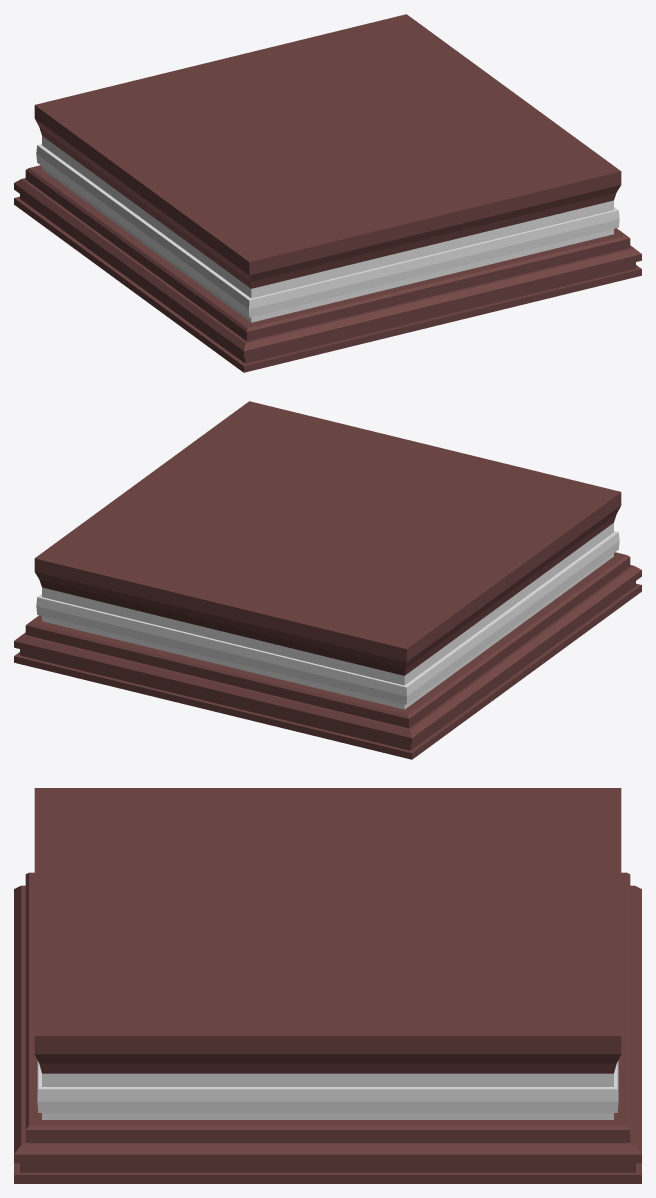
3 renders of one model, top to bottom at view 1: azimuth 30°, elevation 25°; view 2: azimuth 150°, elevation 25°; view 3: azimuth 270°, elevation 25°, orthographic. The views are drawn at different scales.
Visible parts, largest first — view 1: floor9.0, floor9.0Decor; view 2: floor9.0, floor9.0Decor; view 3: floor9.0, floor9.0Decor.
Part boxes in pixels (<box>): floor9.0: <box>14,14,641,372</box>; floor9.0Decor: <box>36,144,619,317</box>; floor9.0: <box>14,401,641,759</box>; floor9.0Decor: <box>36,531,619,704</box>; floor9.0: <box>14,788,641,1183</box>; floor9.0Decor: <box>37,1060,618,1112</box>.
Bounding box in the file's own units: 220 × 53.73 × 220.
